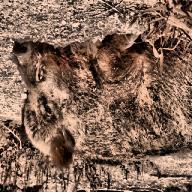boar: (12, 32, 192, 172)
